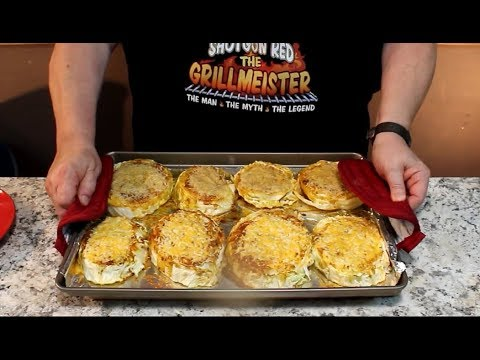cheese: (237, 215, 301, 273), (185, 171, 231, 213)
